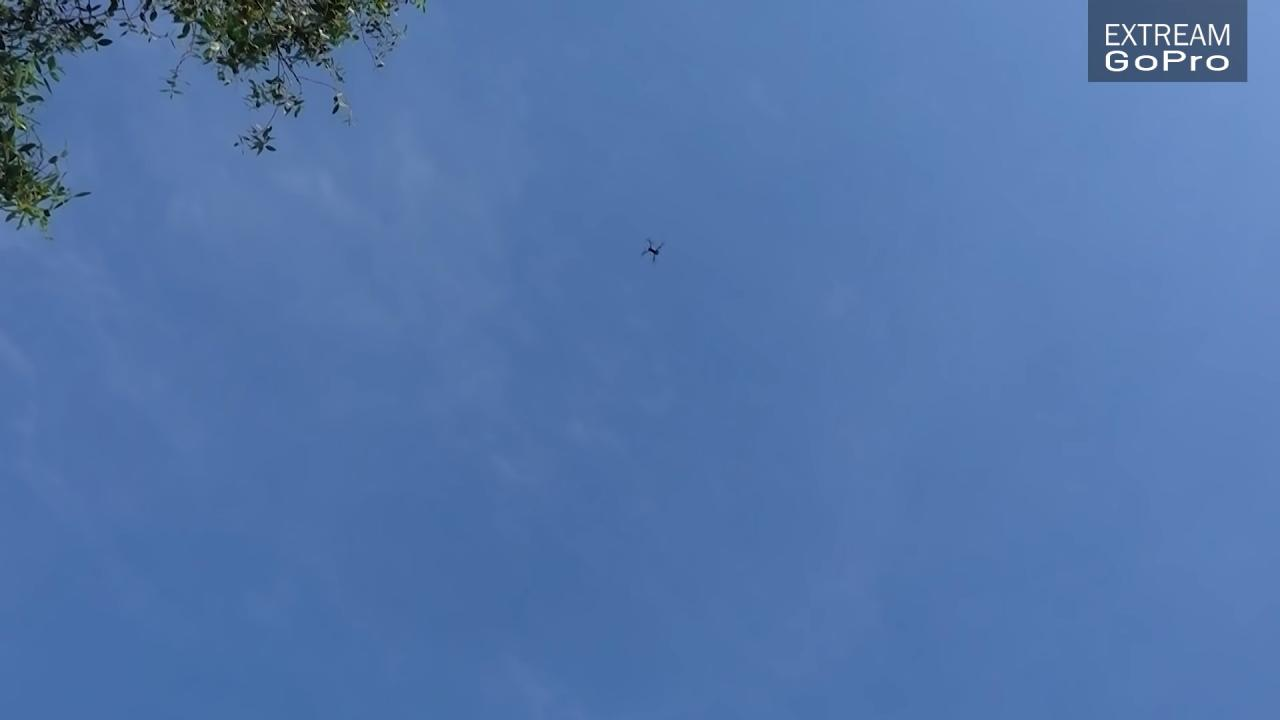Drone: (631, 231, 676, 271)
